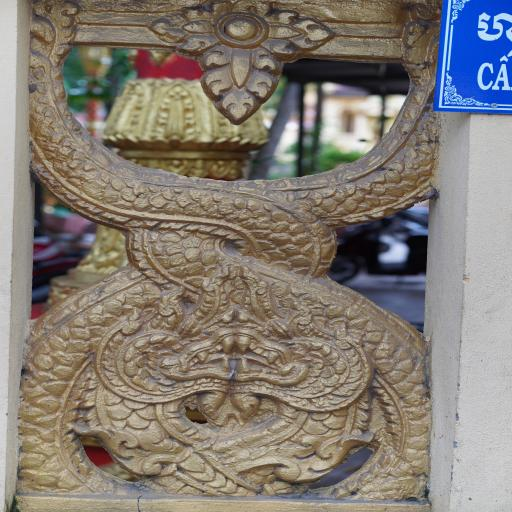la: (138, 0, 337, 133)
ran: (232, 302, 385, 500), (82, 313, 232, 499)
